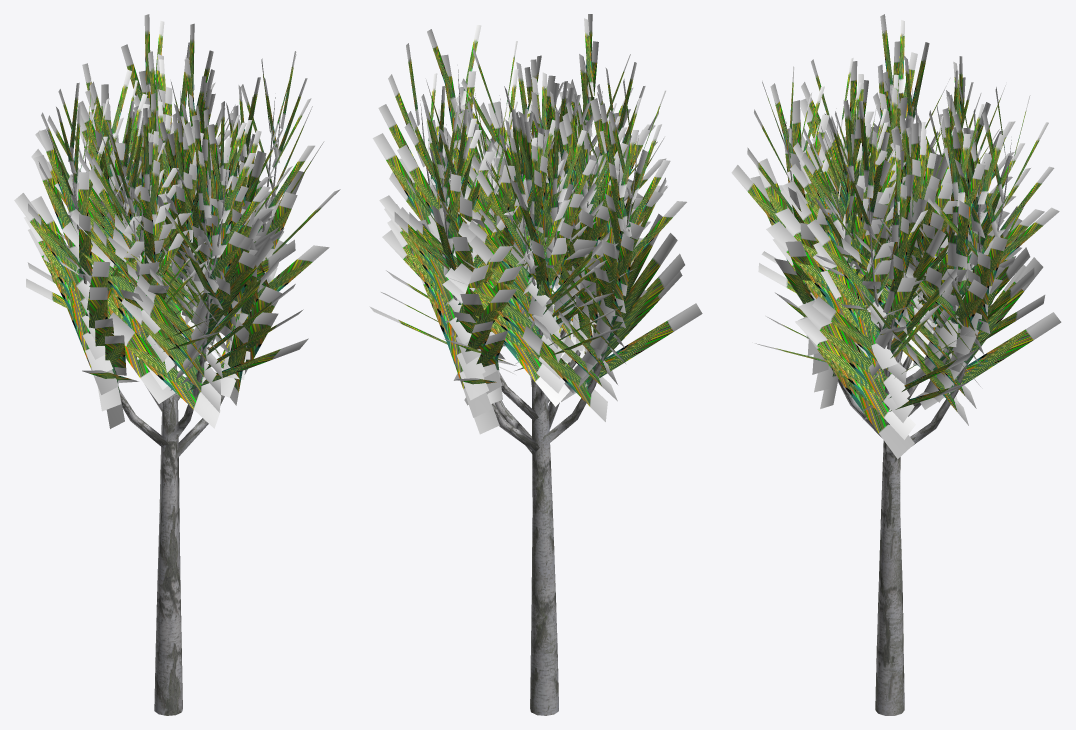
Rendered from tree3.fbx.
The picture shows the model from 3 angles, left to right: view 1: azimuth 30°, elevation 25°; view 2: azimuth 150°, elevation 25°; view 3: azimuth 270°, elevation 25°; orthographic projection.
Visible parts, largest first — view 1: fortree_1, bark11_0; view 2: fortree_1, bark11_0; view 3: fortree_1, bark11_0.
Part boxes in pixels (bbox=[...]): fortree_1: bbox=[14, 14, 340, 428]; bark11_0: bbox=[70, 85, 281, 715]; fortree_1: bbox=[369, 14, 702, 434]; bark11_0: bbox=[420, 69, 638, 715]; fortree_1: bbox=[731, 14, 1061, 458]; bark11_0: bbox=[786, 73, 1011, 715].
Bounding box in the file's own units: 96.37 × 196 × 90.19.
